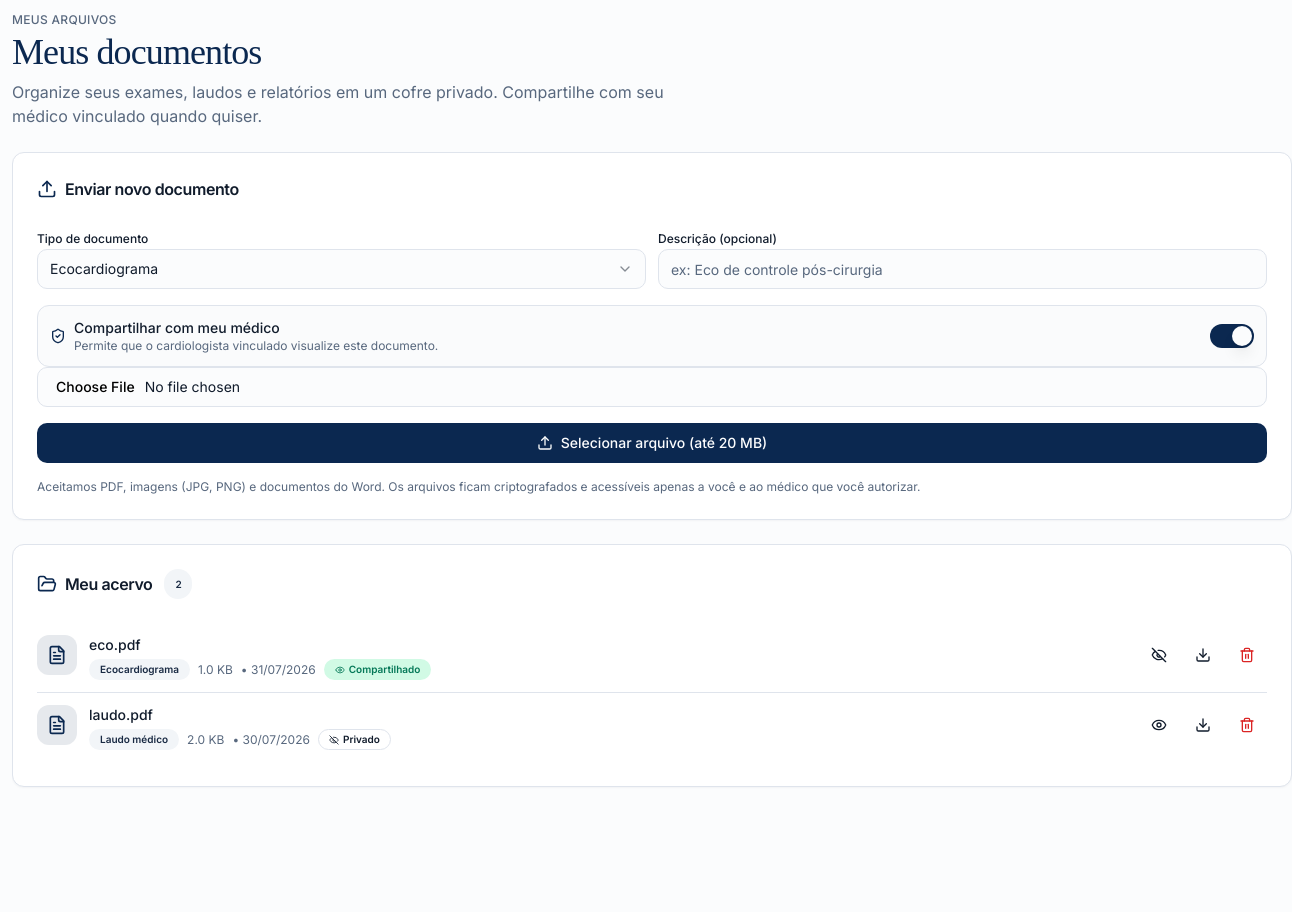
Test: PacienteDocumentos › remover apaga o arquivo do storage, faz soft-delete da linha e audita
Expected: the text "eco.pdf" is shown, top-left (89, 636), bottom-right (141, 653)
Click the 4th button.
click(1247, 655)  # box top-left (1227, 635), bottom-right (1267, 675)
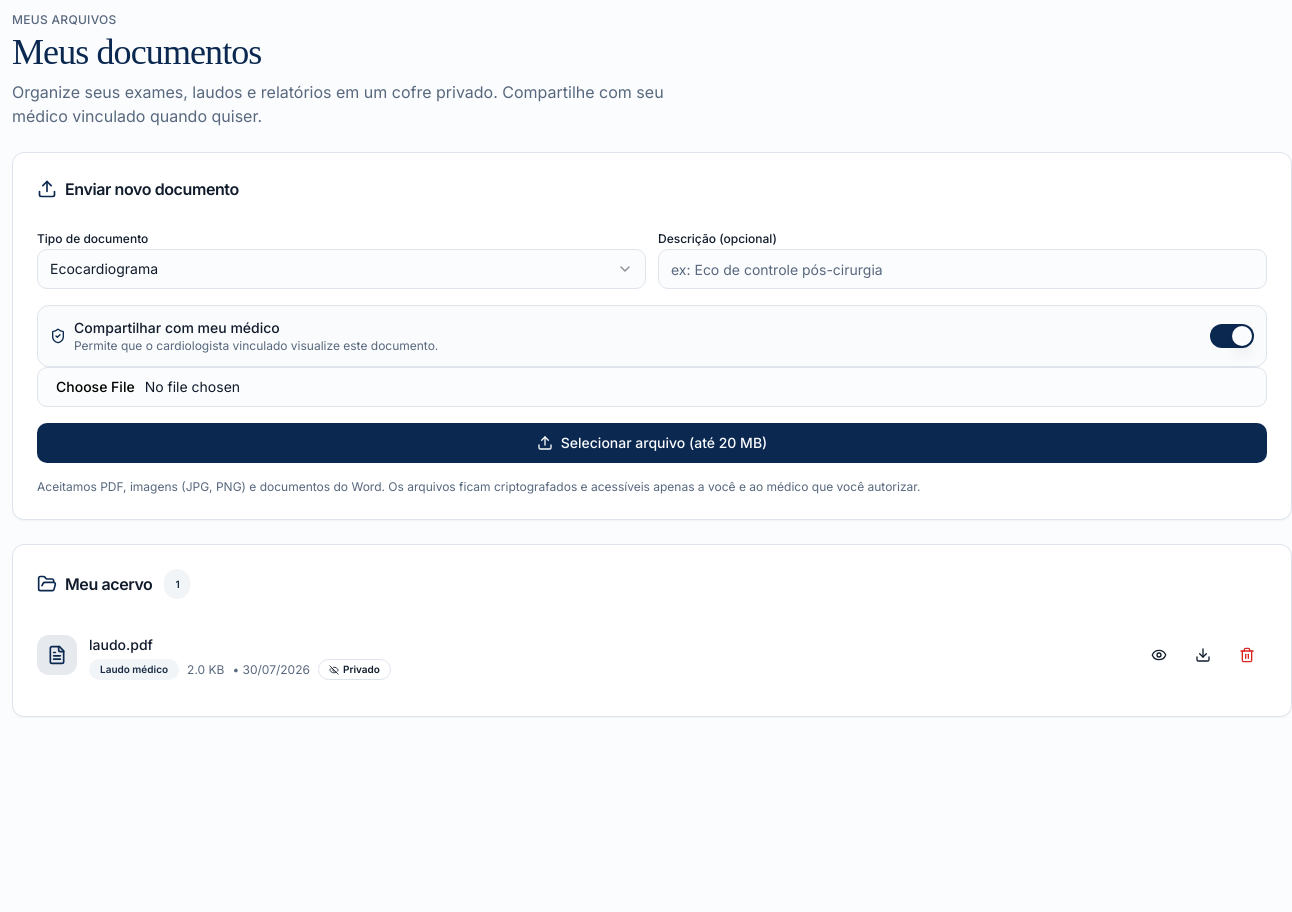
Expected: the text "eco.pdf" is gone
